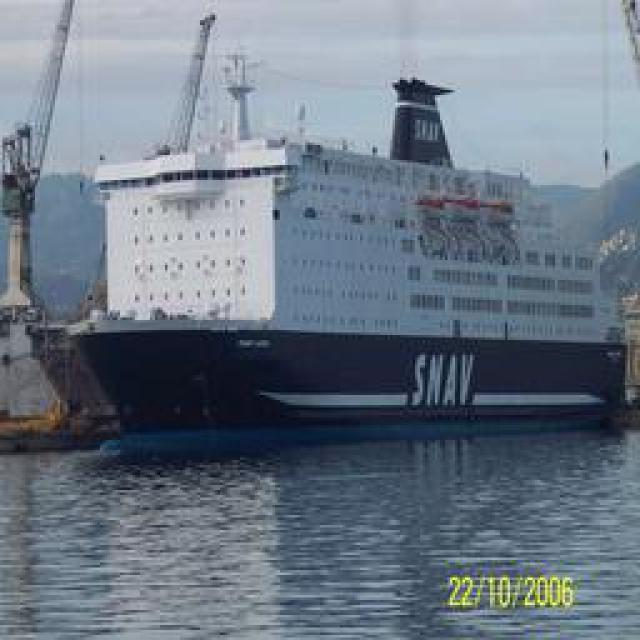Ship: (13, 3, 640, 448)
